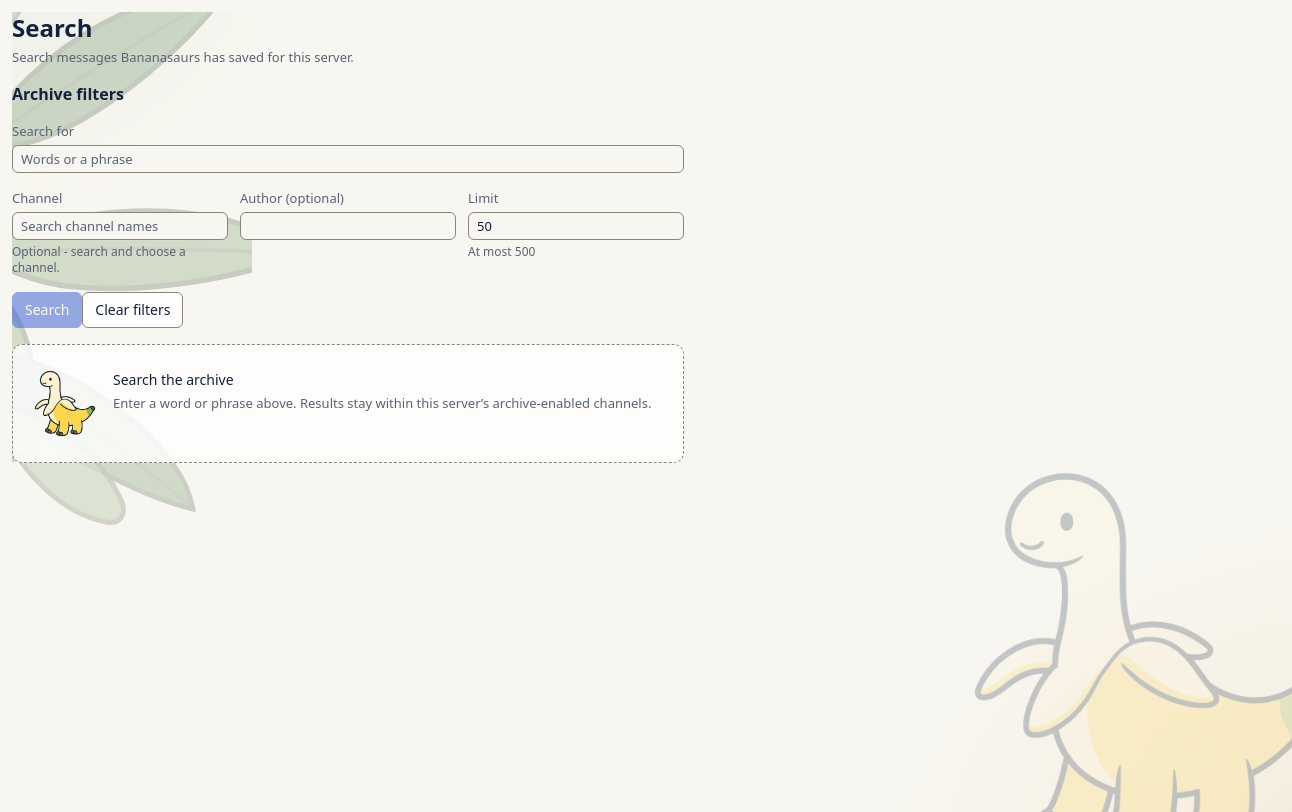
it: search failure has one visible summary, mapped q focus and clears without read
The image size is (1292, 812).
Type "test" into the field labelled "Search for".
click(348, 159); type("test")  # box [12, 145, 684, 173]
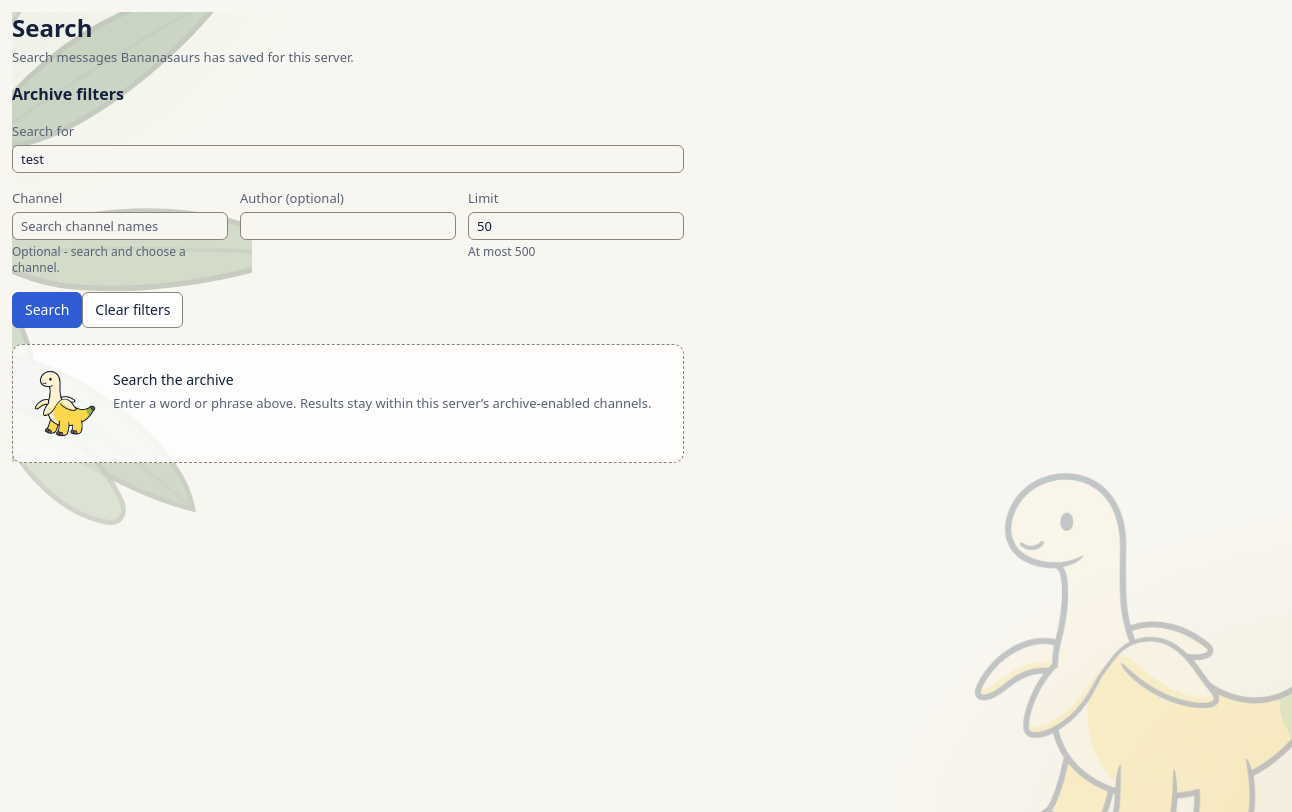
Click the button "Search".
click(47, 310)  # box [12, 292, 82, 328]
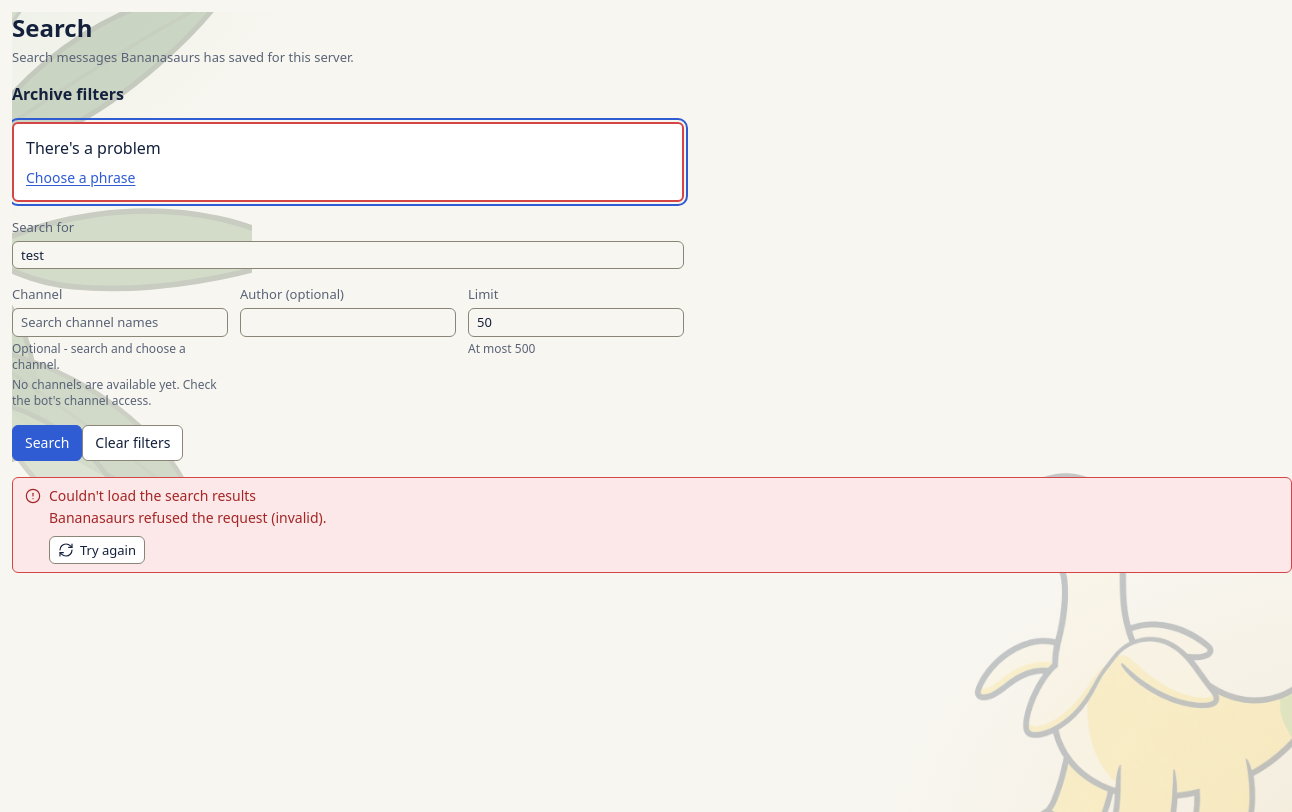
Expected: the link "Choose a phrase" is shown, [26, 168, 135, 187]
Click the button "Clear filters".
click(133, 442)  # box [82, 424, 183, 460]
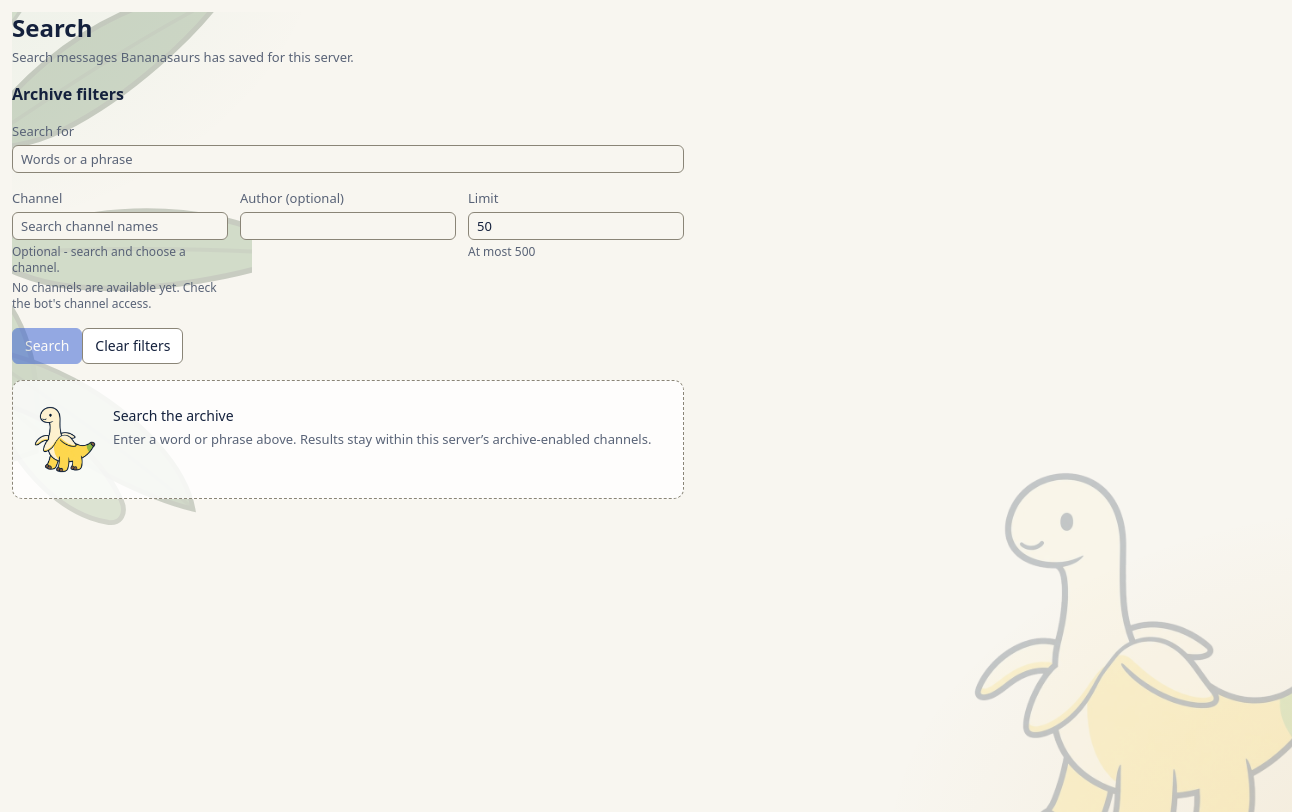
Expected: the link "Choose a phrase" is gone
